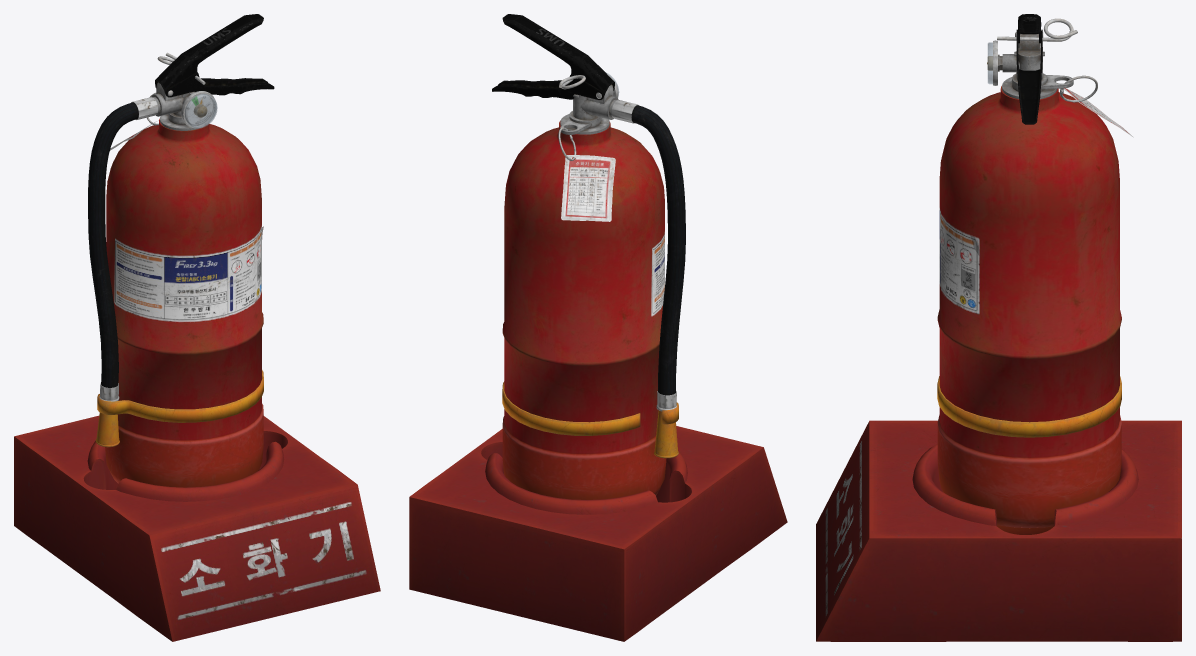
Rendered from FireExtinguisher.fbx.
3 renders of one model, left to right at view 1: azimuth 30°, elevation 25°; view 2: azimuth 150°, elevation 25°; view 3: azimuth 270°, elevation 25°, orthographic. The views are drawn at different scales.
Parts seen in each view (by area): view 1: korean_fire_extinguisher_01; view 2: korean_fire_extinguisher_01; view 3: korean_fire_extinguisher_01.
Boxes of the visible parts, left/top/right/bottom form: korean_fire_extinguisher_01: left=14, top=14, right=380, bottom=641; korean_fire_extinguisher_01: left=409, top=14, right=787, bottom=641; korean_fire_extinguisher_01: left=816, top=14, right=1181, bottom=641.
Bounding box in the file's own units: 0.28 × 0.6593 × 0.3674.
